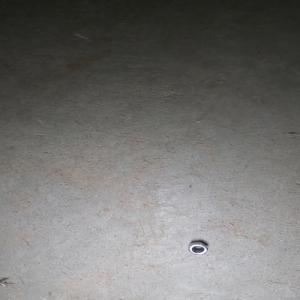Nut: (188, 241, 209, 255)
